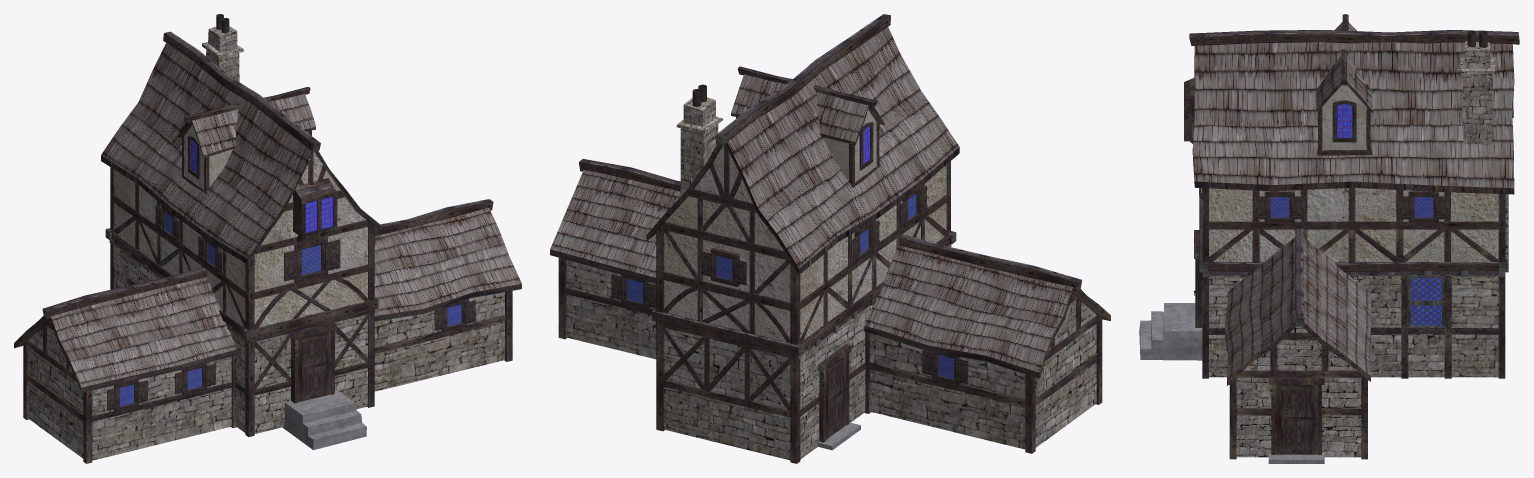
File: medieval-house-2.obj
3 views of the same model, side by side, from view 1: azimuth 30°, elevation 25°; view 2: azimuth 150°, elevation 25°; view 3: azimuth 270°, elevation 25° (orthographic). The views are drawn at different scales.
Parts seen in each view (by area): view 1: Roof, Level1, WoodenBeams, Level2, RoofFrame, WindowFrames, Steps, DoorFront, Chimney, DoorFrontFrame, Level3, Window1Level3 (+1 smaller); view 2: Roof, Level1, WoodenBeams, Level2, RoofFrame, WindowFrames, Chimney, DoorBack, Level3, DoorBackFrame; view 3: Roof, Level1, WoodenBeams, Level2, RoofFrame, WindowFrames, Steps, Chimney, DoorSide, Level3, Window1Level1, DoorSideFrame (+5 smaller).
Boxes of the visible parts, x1,y1,x2,y2 form: Roof: (51,42,521,387); Level1: (28,245,504,460); WoodenBeams: (23,104,512,463); Level2: (114,152,367,327); RoofFrame: (14,31,521,392); WindowFrames: (107,136,475,412); Steps: (282,390,366,449); DoorFront: (298,331,331,402); Chimney: (202,26,243,81); DoorFrontFrame: (289,322,336,403); Level3: (184,124,308,189); Window1Level3: (305,197,333,232); Roof: (550,27,1072,372); Level1: (566,260,1096,460); WoodenBeams: (558,107,1102,463); Level2: (664,145,946,341); RoofFrame: (550,14,1110,378); WindowFrames: (611,122,968,385); Chimney: (676,97,722,196); DoorBack: (825,355,846,439); Level3: (823,110,876,181); DoorBackFrame: (818,344,851,442); Roof: (1192,22,1514,379); Level1: (1209,276,1498,457); WoodenBeams: (1199,85,1508,459); Level2: (1209,188,1498,261); RoofFrame: (1189,14,1519,385); WindowFrames: (1184,77,1449,384); Steps: (1139,303,1202,360); Chimney: (1459,41,1495,144); DoorSide: (1275,385,1317,454); Level3: (1322,85,1366,149); Window1Level1: (1411,278,1441,325); DoorSideFrame: (1269,377,1324,454).
Size of the model in its own units: 15.09 by 9.79 by 10.13.
16 materials, 16 textured.
